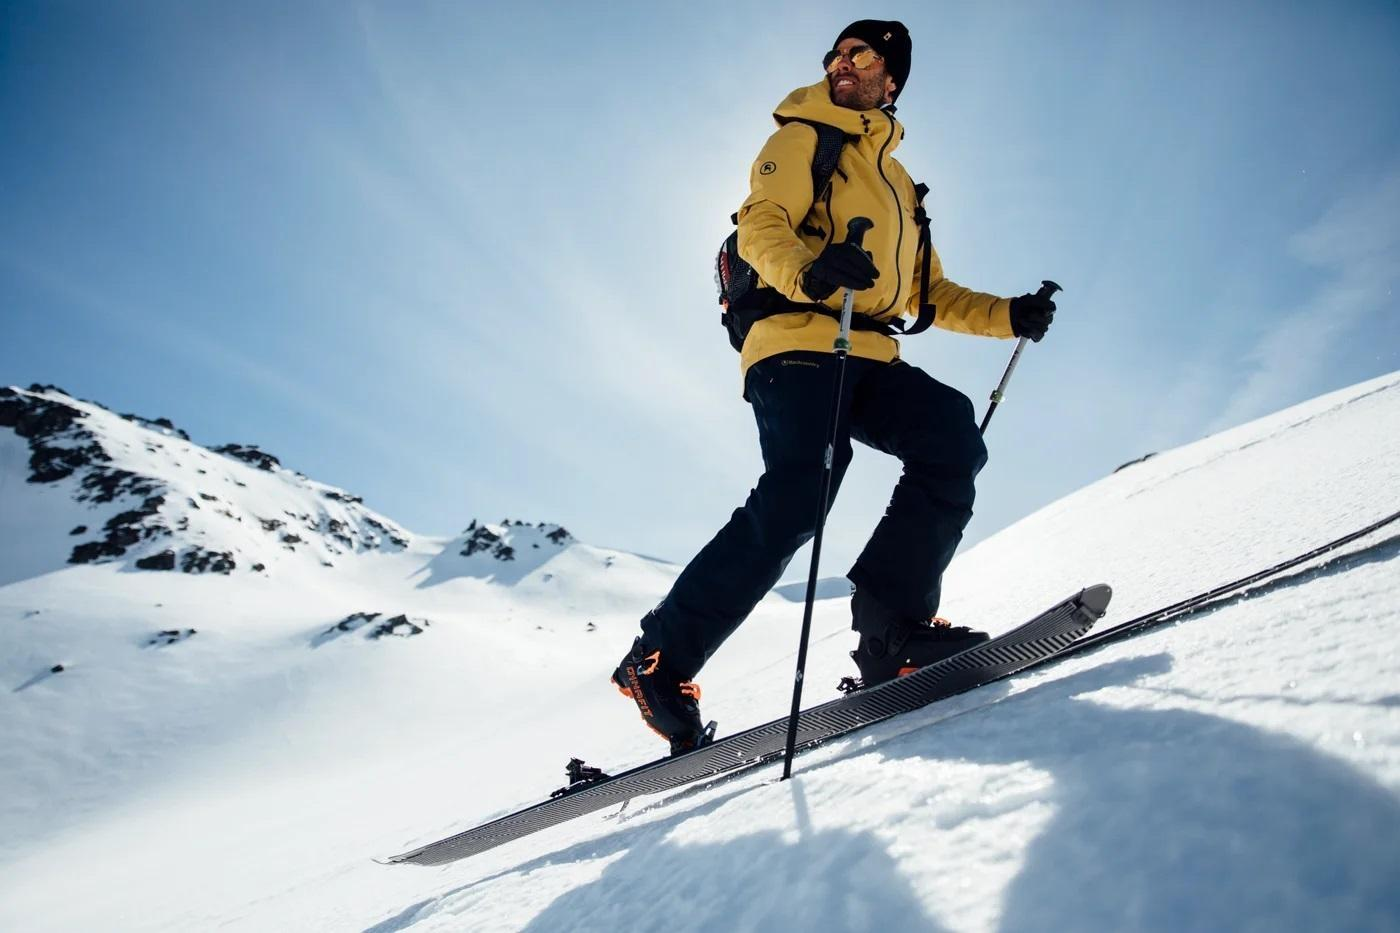Skis: (384, 546, 1276, 888)
